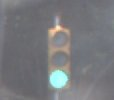Green: (42, 25, 80, 96)
